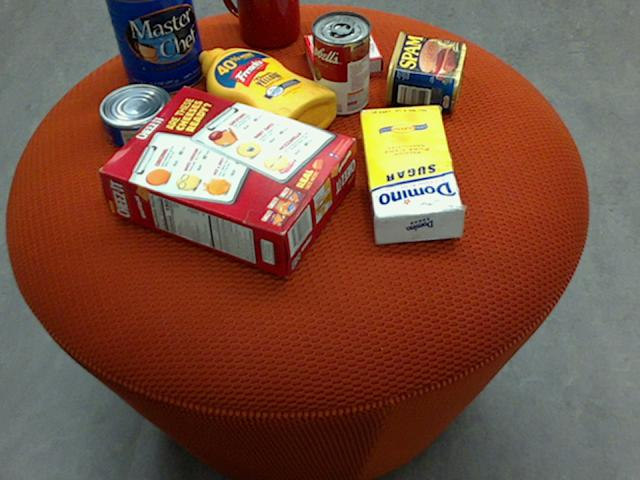cracker_box: (97, 84, 355, 275)
gelatin_box: (304, 26, 384, 83)
large_marker: (259, 0, 285, 41)
master_chef_can: (104, 0, 205, 94)
mug: (224, 0, 299, 48)
mustard_bottle: (198, 48, 336, 148)
potted_meat_can: (384, 31, 464, 112)
sugar_box: (357, 105, 465, 242)
tomato_soup_can: (311, 10, 370, 114)
tuna_fish_can: (97, 84, 175, 149)
